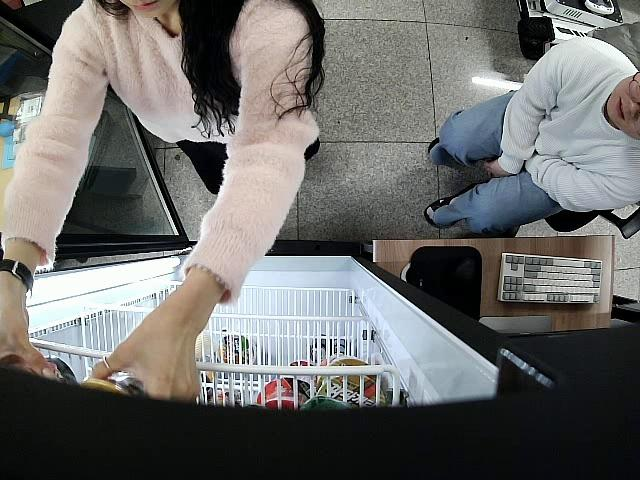00_hand: (83, 309, 203, 402), (0, 287, 61, 381)
